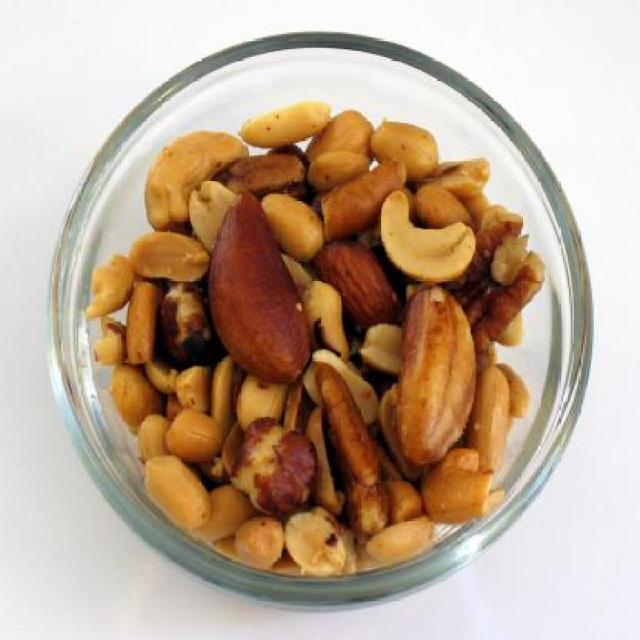Frutta secca: (80, 104, 546, 572)
